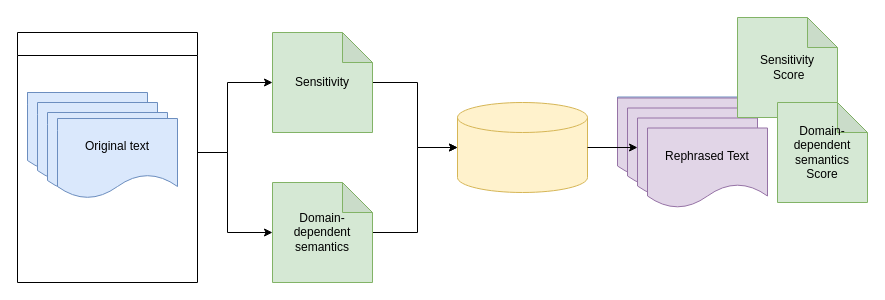
Image size: 885x300. Some labels were removed from this diagram. Here are the shapes that lost their labels. From the top down, the centre of each, then its label:
(x=107, y=157): Platform
(x=522, y=147): Large Language Model
